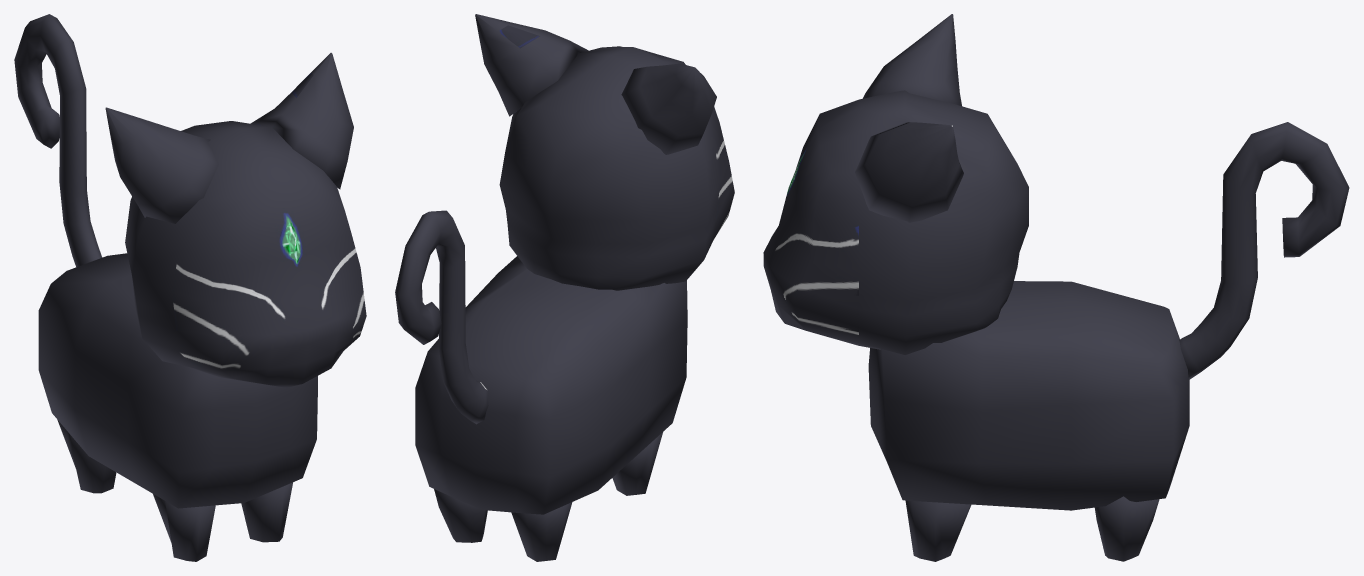
Rendered from cat.FBX.
3 views of the same model, side by side, from view 1: azimuth 30°, elevation 25°; view 2: azimuth 150°, elevation 25°; view 3: azimuth 270°, elevation 25° (orthographic). The views are drawn at different scales.
Visible parts, largest first — view 1: Cylinder; view 2: Cylinder; view 3: Cylinder.
Part boxes in pixels (x1,y1,x2,y2): Cylinder: [14, 14, 366, 561]; Cylinder: [395, 14, 734, 561]; Cylinder: [763, 14, 1349, 561].
Bounding box in the file's own units: 4.84 × 9.26 × 10.56.
